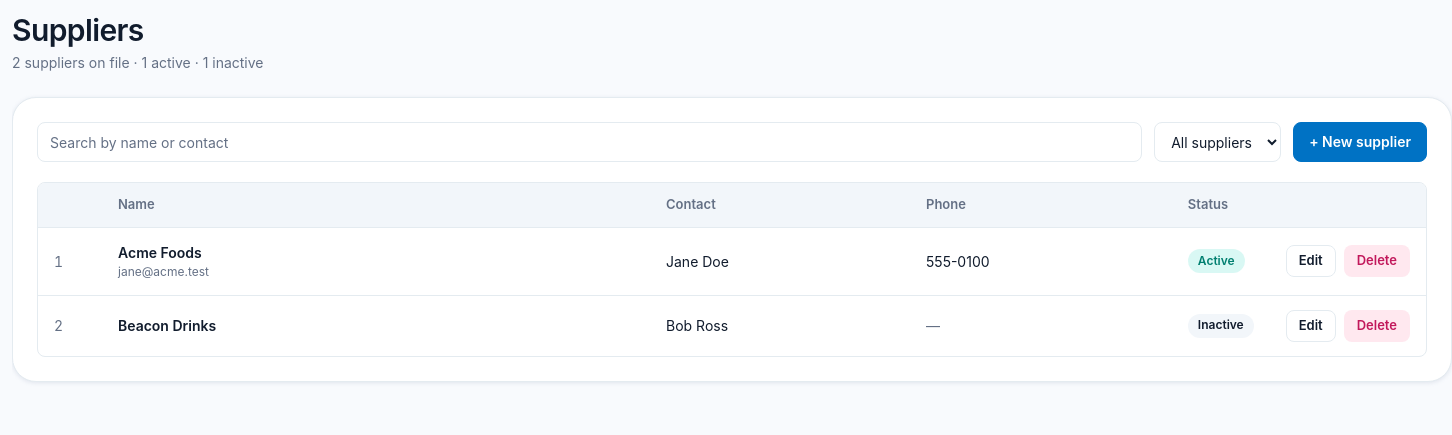
SuppliersPage — search and status filter › combines search and status filter (AND semantics)
The width and height of the screenshot is (1452, 435).
Select "Active" in the dropdown named "Filter by supplier status": (1218,142) [1154,122,1281,162]
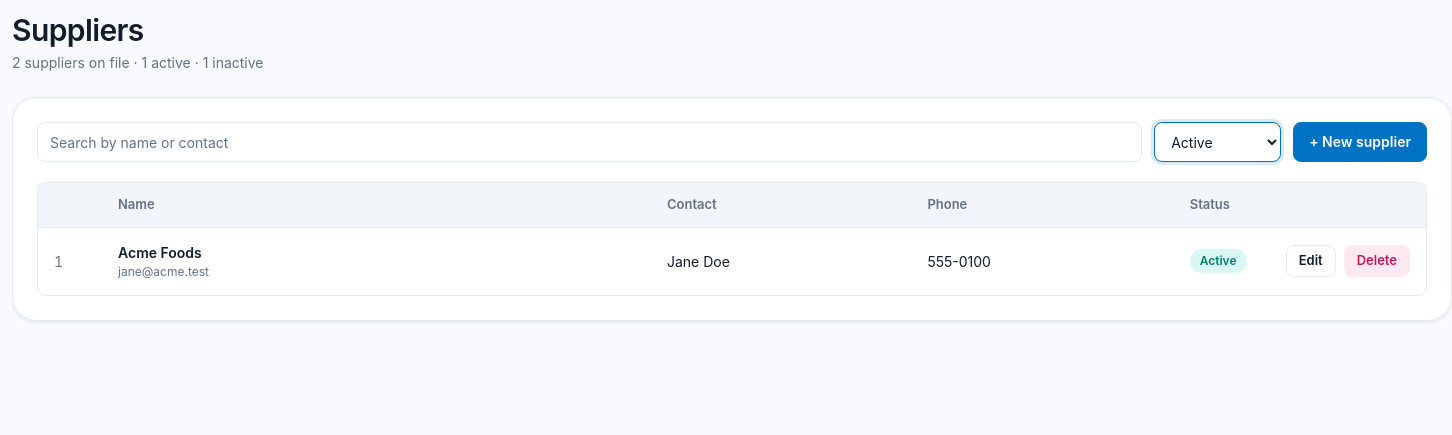
In the search field named "Search suppliers": (590,142) [37,122,1142,162], type "beacon"
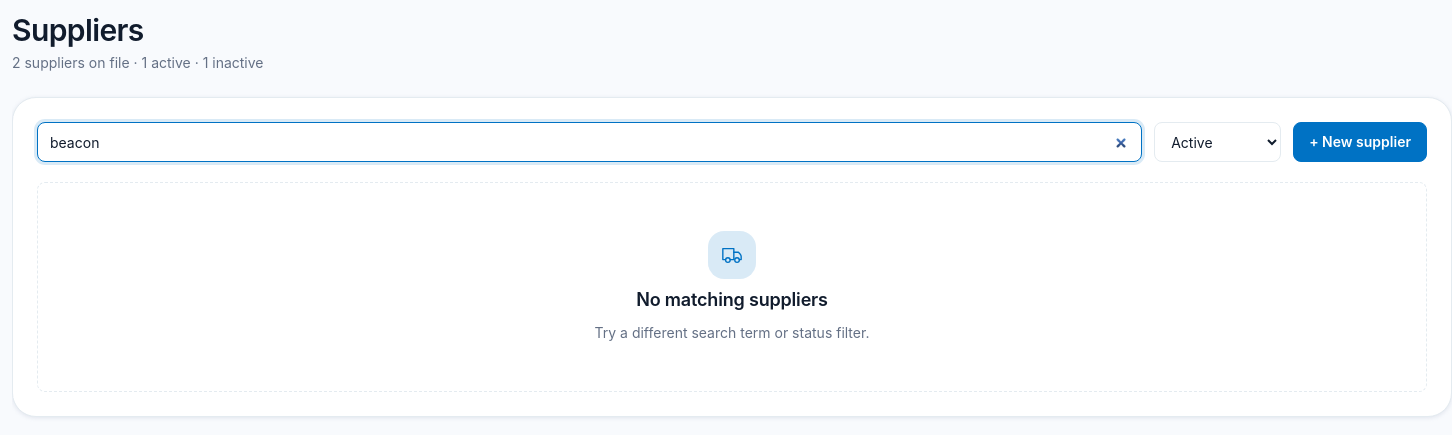
Result: the heading "No matching suppliers" is shown at [636,289,828,312]
